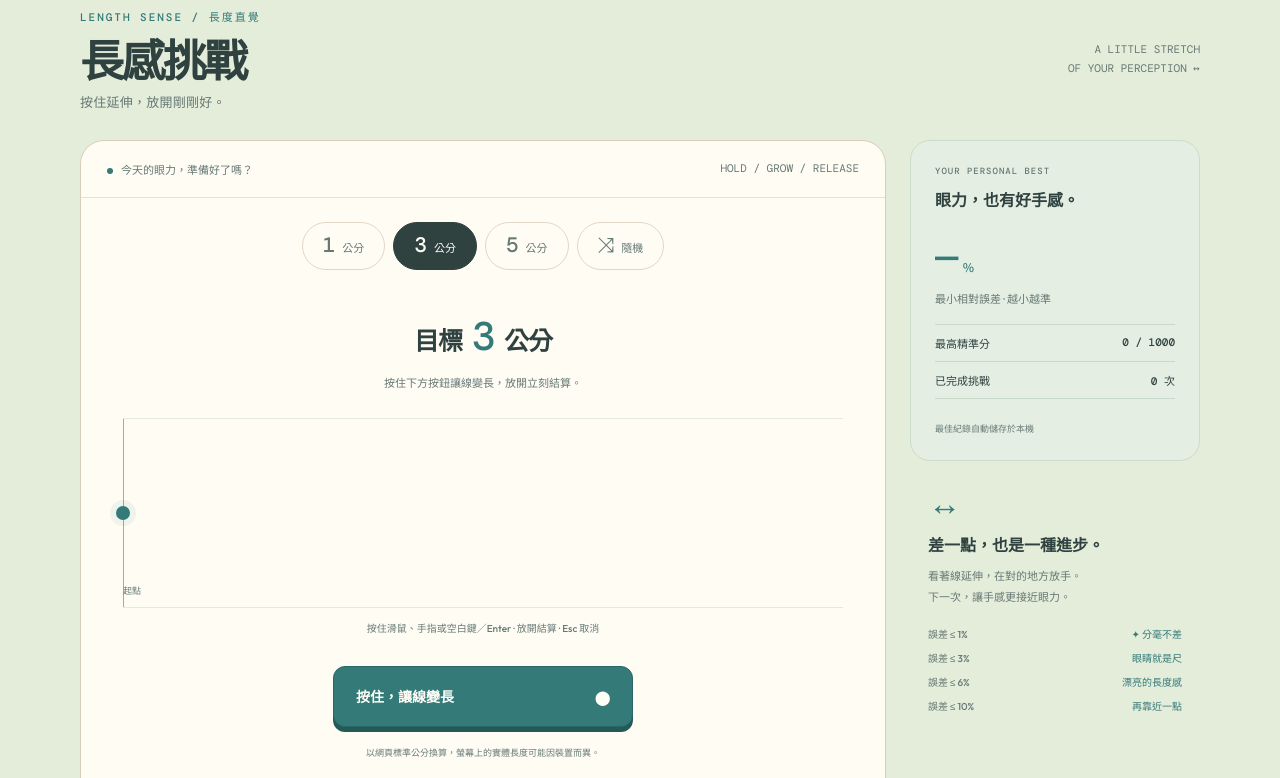
Length Sense hold and release › shows a random target before holding and preannounces the next target after release
Click the button with aria-label "隨機公分目標".
click(620, 246)  # box [576,222,664,270]
(page scrolled)
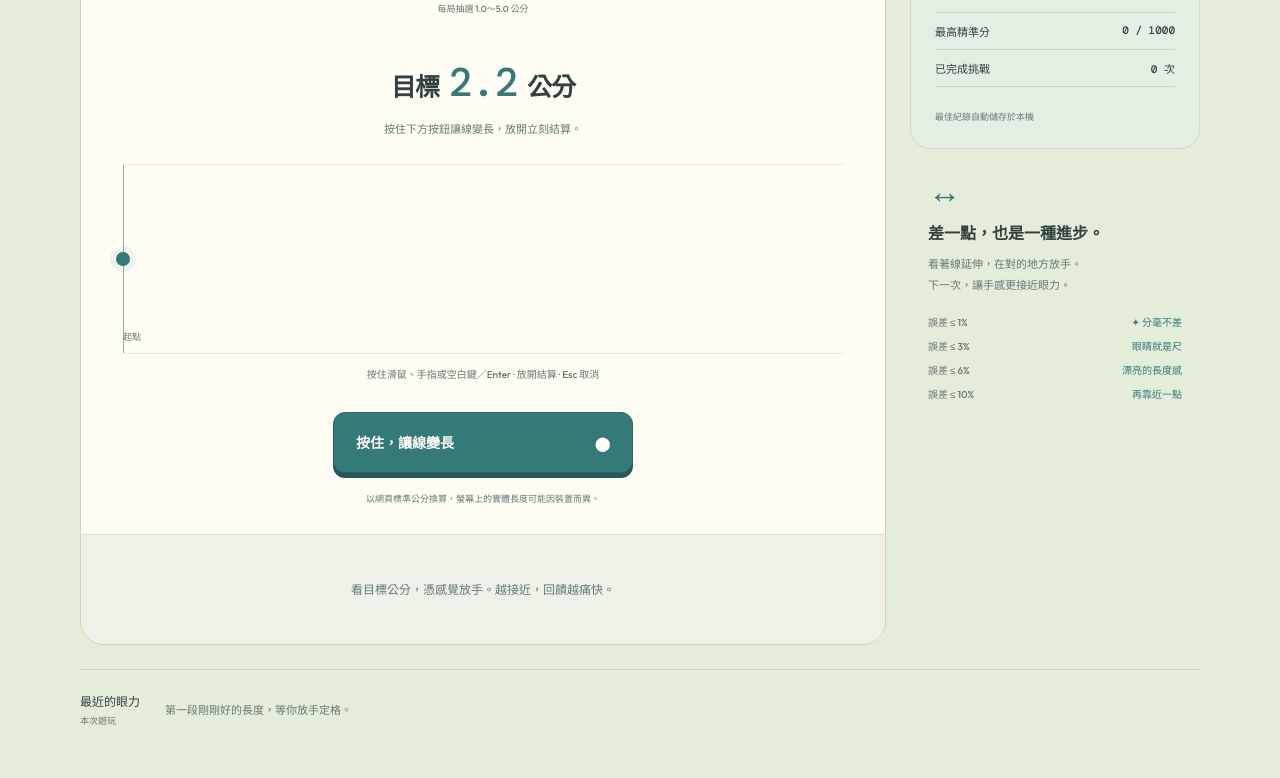
Press Space in the button with aria-label "按住讓線變長", box [333,412,633,473]
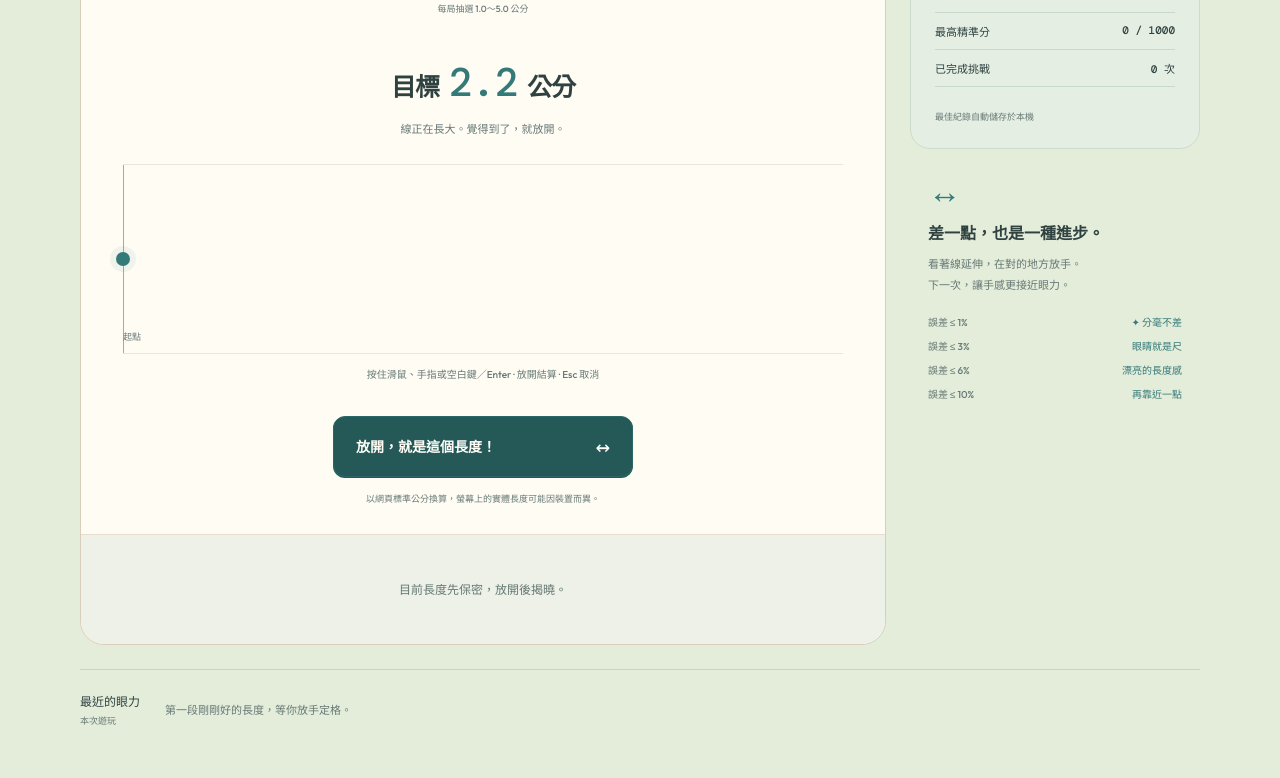
Press Space in the button named "按住讓線變長", box [333,416,633,477]
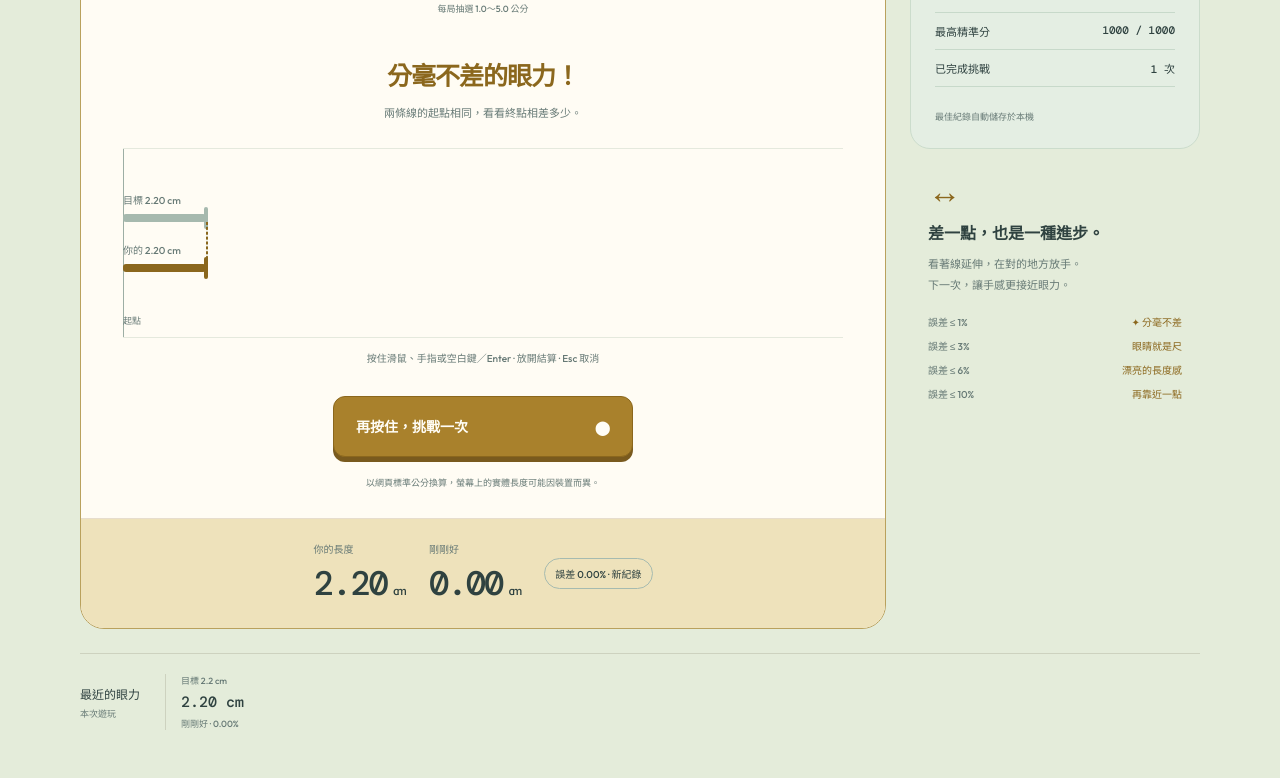
Now the element named "長度比較" shows "目標 2.20 cm", box [123,214,208,272]
Now the message shows "2.20cm", box [81,518,885,628]
Press Space in the button with aria-label "按住讓線變長", box [333,396,633,457]
(page scrolled)
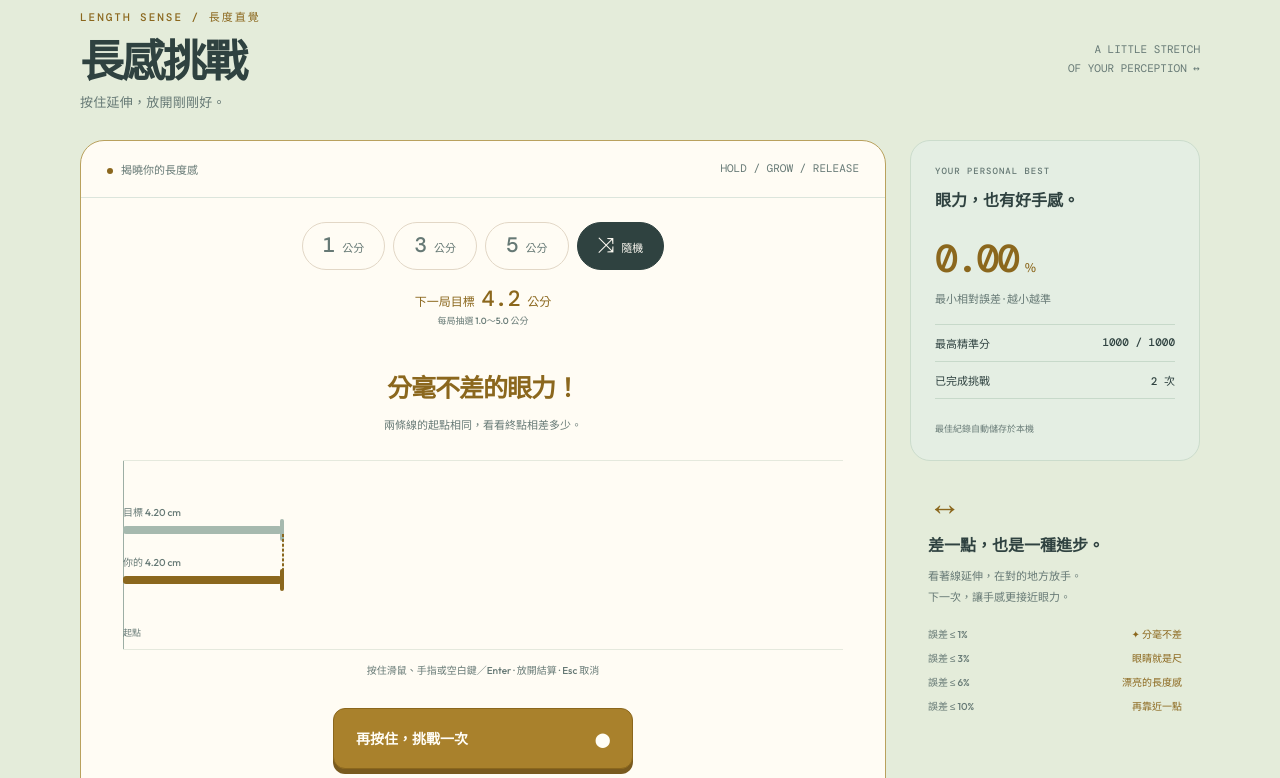
Now the element named "長度比較" shows "目標 4.20 cm", box [123,526,284,584]
Click the button with aria-label "5 公分挑戰".
click(527, 246)  # box [485,222,568,270]
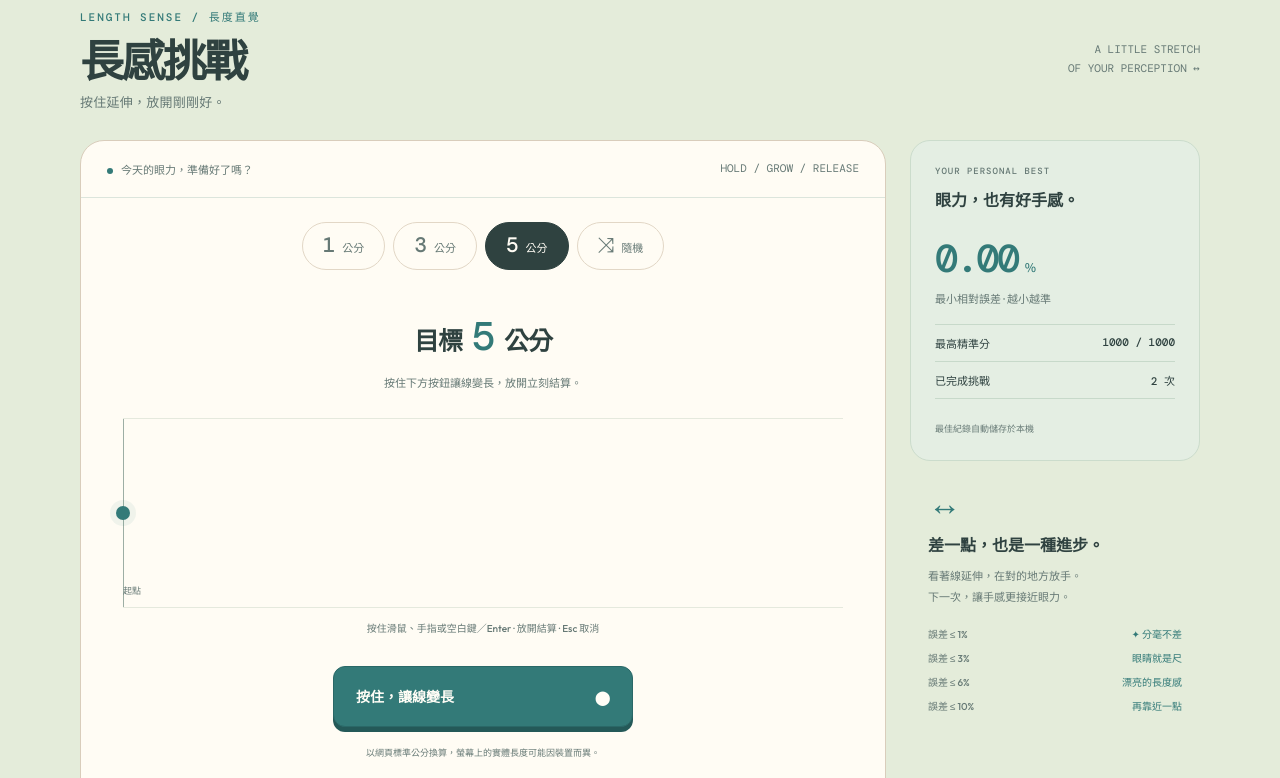
Now the element with class "sense-random-target" is gone
